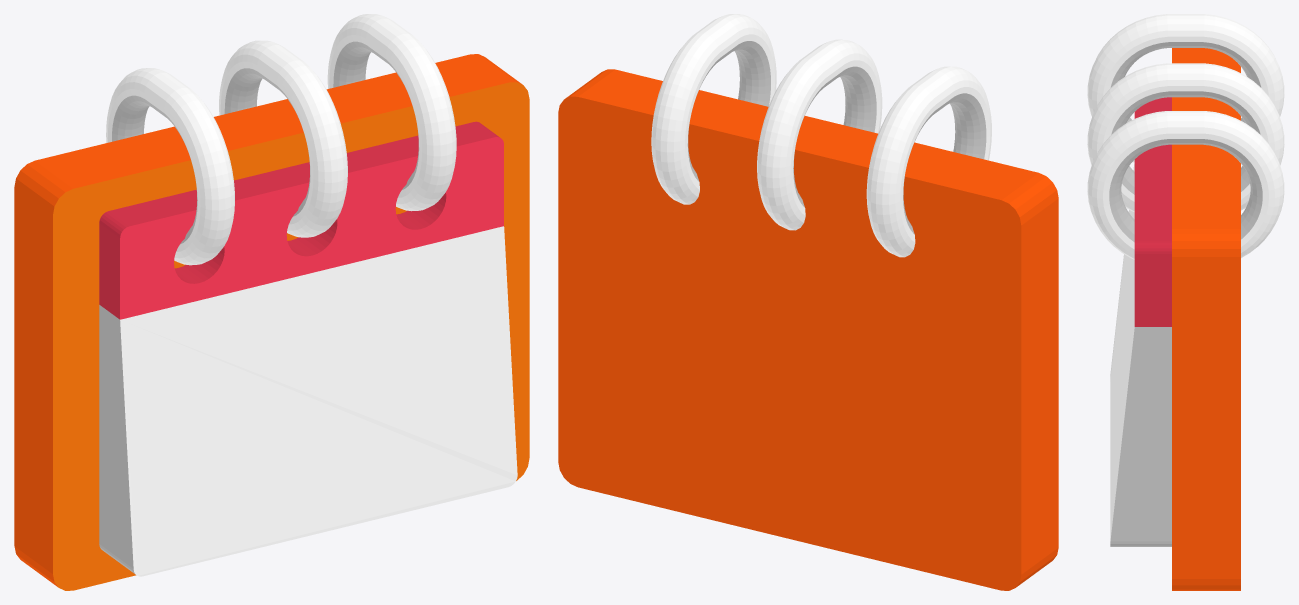
Rendered from wireframe.glb.
The picture shows the model from 3 angles, left to right: view 1: azimuth 30°, elevation 25°; view 2: azimuth 150°, elevation 25°; view 3: azimuth 270°, elevation 25°; orthographic projection. The views are drawn at different scales.
Parts seen in each view (by area): view 1: Cube_0.001; view 2: Cube_0.001; view 3: Cube_0.001.
Part boxes in pixels (x1,y1,x2,y2): Cube_0.001: [14, 14, 529, 590]; Cube_0.001: [558, 14, 1058, 590]; Cube_0.001: [1087, 14, 1284, 590].
Bounding box in the file's own units: 1.03 × 0.9911 × 0.4126.
1 material, 1 textured.
